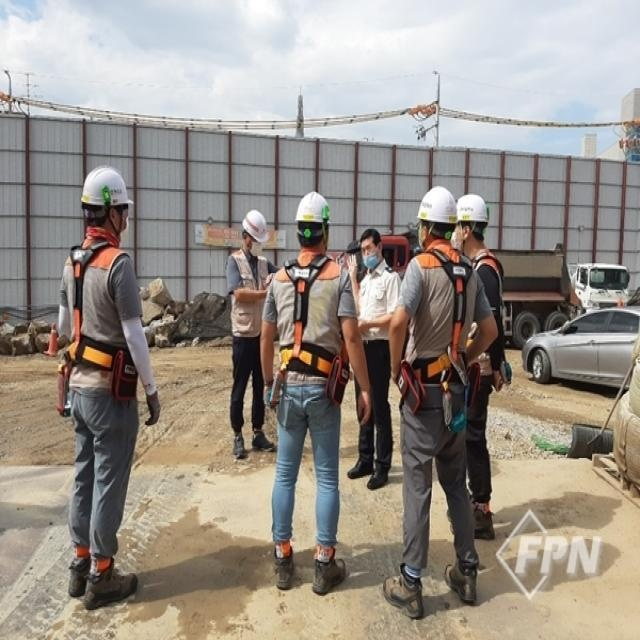Arnes_seguridad: (397, 246, 475, 426), (54, 237, 138, 380), (280, 252, 344, 396), (463, 249, 503, 385)
